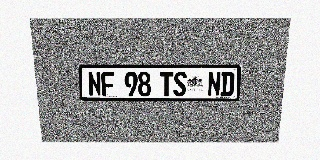8: (138, 72, 151, 96)
9: (124, 72, 138, 96)
D: (220, 72, 235, 96)
F: (101, 72, 115, 96)
N: (88, 72, 102, 96), (207, 72, 221, 96)
S: (173, 72, 187, 96)
T: (160, 72, 173, 96)
